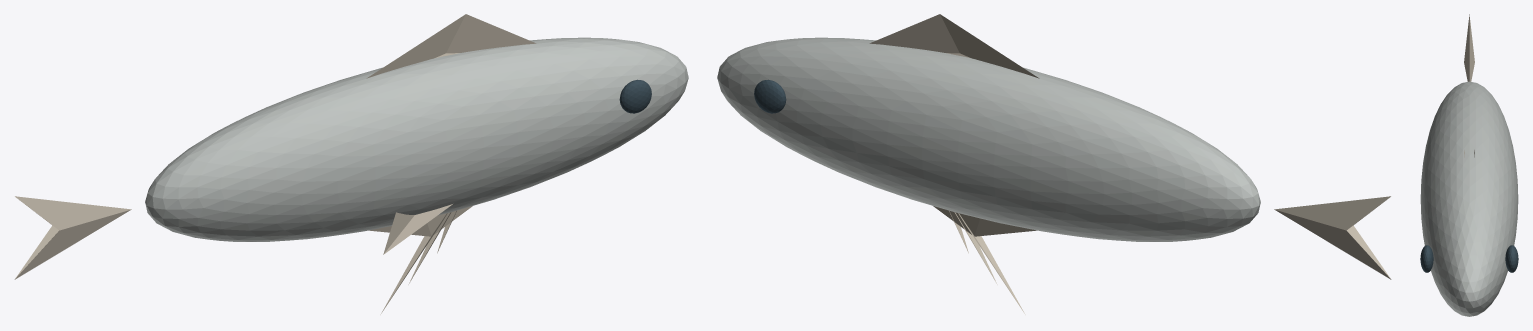
Rendered from Ikan_Senangin.glb.
3 views of the same model, side by side, from view 1: azimuth 30°, elevation 25°; view 2: azimuth 150°, elevation 25°; view 3: azimuth 270°, elevation 25° (orthographic). The views are drawn at different scales.
Visible parts, largest first — view 1: Part_00, Part_01, Part_02, Part_04, Part_05, Part_03; view 2: Part_00, Part_01, Part_02, Part_03, Part_06; view 3: Part_00, Part_01, Part_05, Part_06.
Boxes of the visible parts, <box> form: Part_00: <box>145,37,688,241</box>; Part_01: <box>14,196,131,279</box>; Part_02: <box>366,14,536,78</box>; Part_04: <box>383,204,452,254</box>; Part_05: <box>619,79,651,113</box>; Part_03: <box>369,206,472,236</box>; Part_00: <box>717,37,1260,241</box>; Part_01: <box>1274,196,1391,279</box>; Part_02: <box>869,14,1039,78</box>; Part_03: <box>933,206,1036,236</box>; Part_06: <box>754,79,786,113</box>; Part_00: <box>1420,81,1518,316</box>; Part_01: <box>1464,14,1474,81</box>; Part_05: <box>1420,245,1433,272</box>; Part_06: <box>1505,245,1518,272</box>.
Bounding box in the file's own units: 1.64 × 0.658 × 0.2674.
